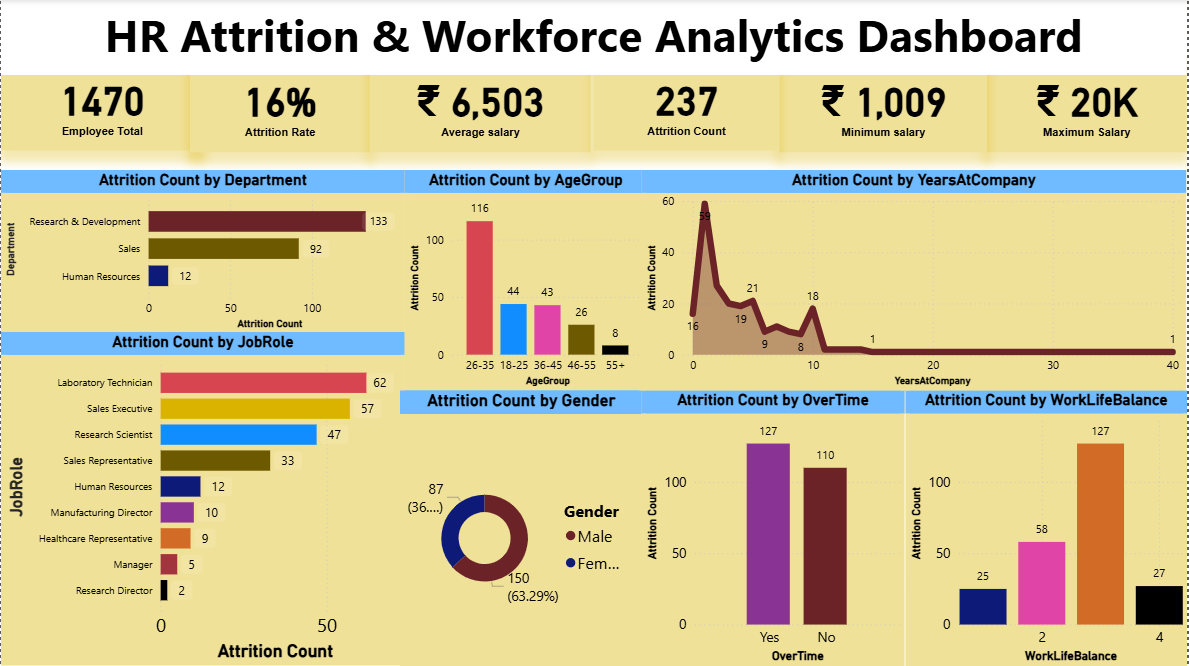

What the dashboard file says about the page in this screenshot:
{"tool":"powerbi","page":{"name":"Page 1","canvas":[1280,720],"ordinal":0},"visuals":[{"type":"card","fields":{"Values":["HR_Analytics.Employee Total"]},"box":[0,62,218,102],"z":0},{"type":"card","fields":{"Values":["HR_Analytics.Attrition Rate"]},"box":[204,62,194,104],"z":1},{"type":"card","fields":{"Values":["HR_Analytics.Average salary"]},"box":[398,62,238,104],"z":2},{"type":"card","fields":{"Values":["HR_Analytics.Maximum Salary"]},"box":[1064,62,216,104],"z":3},{"type":"card","fields":{"Values":["HR_Analytics.Minimum salary"]},"box":[840,62,224,104],"z":4},{"type":"card","fields":{"Values":["HR_Analytics.Attrition Count"]},"box":[640,62,200,102],"z":5},{"type":"barChart","fields":{"Category":["HR_Analytics.Department"],"Y":["HR_Analytics.Attrition Count"]},"box":[0,184,436,176],"z":6},{"type":"barChart","fields":{"Y":["HR_Analytics.Attrition Count"],"Category":["HR_Analytics.JobRole"]},"box":[0,360,436,360],"z":7},{"type":"columnChart","fields":{"Category":["HR_Analytics.AgeGroup"],"Y":["HR_Analytics.Attrition Count"]},"box":[436,184,262,238],"z":8},{"type":"donutChart","fields":{"Y":["HR_Analytics.Attrition Count"],"Category":["HR_Analytics.Gender"]},"box":[430,422,262,298],"z":9},{"type":"columnChart","fields":{"Category":["HR_Analytics.OverTime"],"Y":["HR_Analytics.Attrition Count"]},"box":[692,422,284,298],"z":10},{"type":"columnChart","fields":{"Y":["HR_Analytics.Attrition Count"],"Category":["HR_Analytics.WorkLifeBalance"]},"box":[976,422,304,298],"z":11},{"type":"areaChart","fields":{"Category":["HR_Analytics.YearsAtCompany"],"Y":["HR_Analytics.Attrition Count"]},"box":[692,184,588,238],"z":12},{"type":"textbox","box":[0,0,1280,82],"z":13}]}

Visuals, with their boxes in screenshot pixels (x1, y1, x2, y2), scaled from the page's 1280x720 canvas onto the 1189x666 screenshot:
card - HR_Analytics.Employee Total: [0, 57, 203, 152]
card - HR_Analytics.Attrition Rate: [189, 57, 370, 154]
card - HR_Analytics.Average salary: [370, 57, 591, 154]
card - HR_Analytics.Maximum Salary: [988, 57, 1188, 154]
card - HR_Analytics.Minimum salary: [780, 57, 988, 154]
card - HR_Analytics.Attrition Count: [594, 57, 780, 152]
barChart - HR_Analytics.Department x HR_Analytics.Attrition Count: [0, 170, 405, 333]
barChart - HR_Analytics.Attrition Count x HR_Analytics.JobRole: [0, 333, 405, 665]
columnChart - HR_Analytics.AgeGroup x HR_Analytics.Attrition Count: [405, 170, 648, 390]
donutChart - HR_Analytics.Attrition Count x HR_Analytics.Gender: [399, 390, 643, 665]
columnChart - HR_Analytics.OverTime x HR_Analytics.Attrition Count: [643, 390, 907, 665]
columnChart - HR_Analytics.Attrition Count x HR_Analytics.WorkLifeBalance: [907, 390, 1188, 665]
areaChart - HR_Analytics.YearsAtCompany x HR_Analytics.Attrition Count: [643, 170, 1188, 390]
textbox: [0, 0, 1188, 76]
